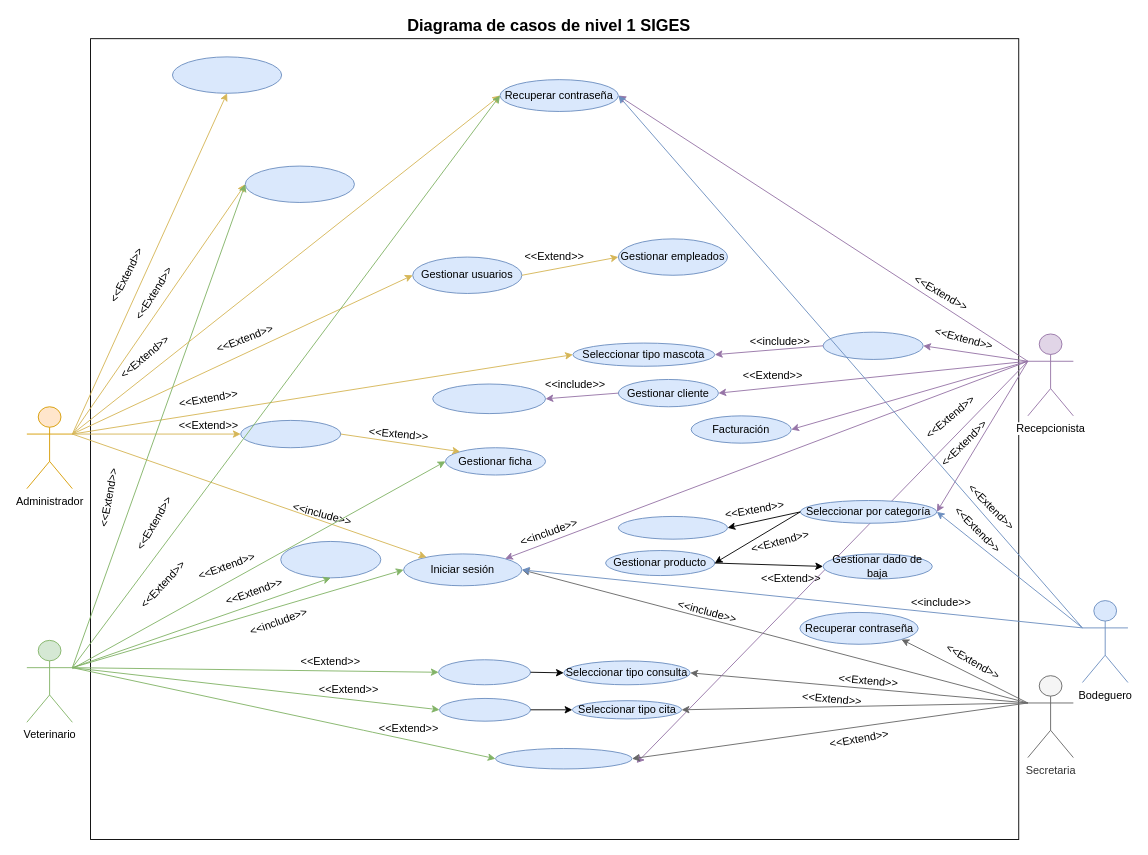
Some shapes in this 1148 by 855 pixel diagram are drawn without their labels. Here are the shapes that lost their labels. From the top down, the centre of each, then its label:
[227,74]: Control bitácora
[299,183]: Generar reportes
[872,345]: Gestionar Mascota
[489,398]: Seleccionar tipo cliente
[290,434]: Consultar Ficha
[672,527]: Gestionar inventario
[330,559]: Consultar mascotas
[484,672]: Gestionar consultas
[485,709]: Gestionar citas
[563,758]: Gestionar agenda
